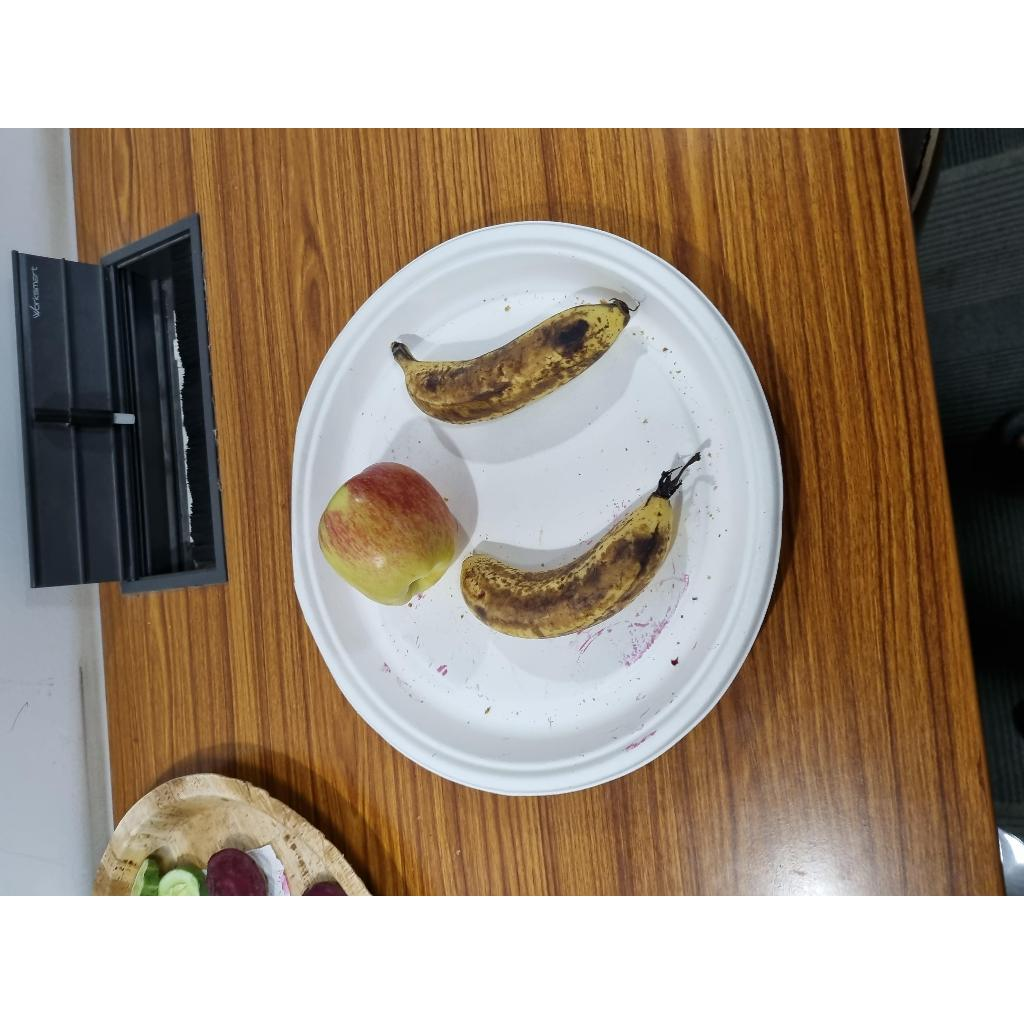apple: (316, 459, 463, 609)
banana: (461, 497, 675, 638), (391, 299, 630, 424)
